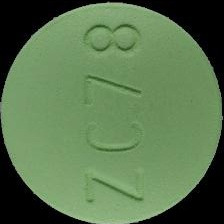68382-117: (0, 0, 224, 224)
